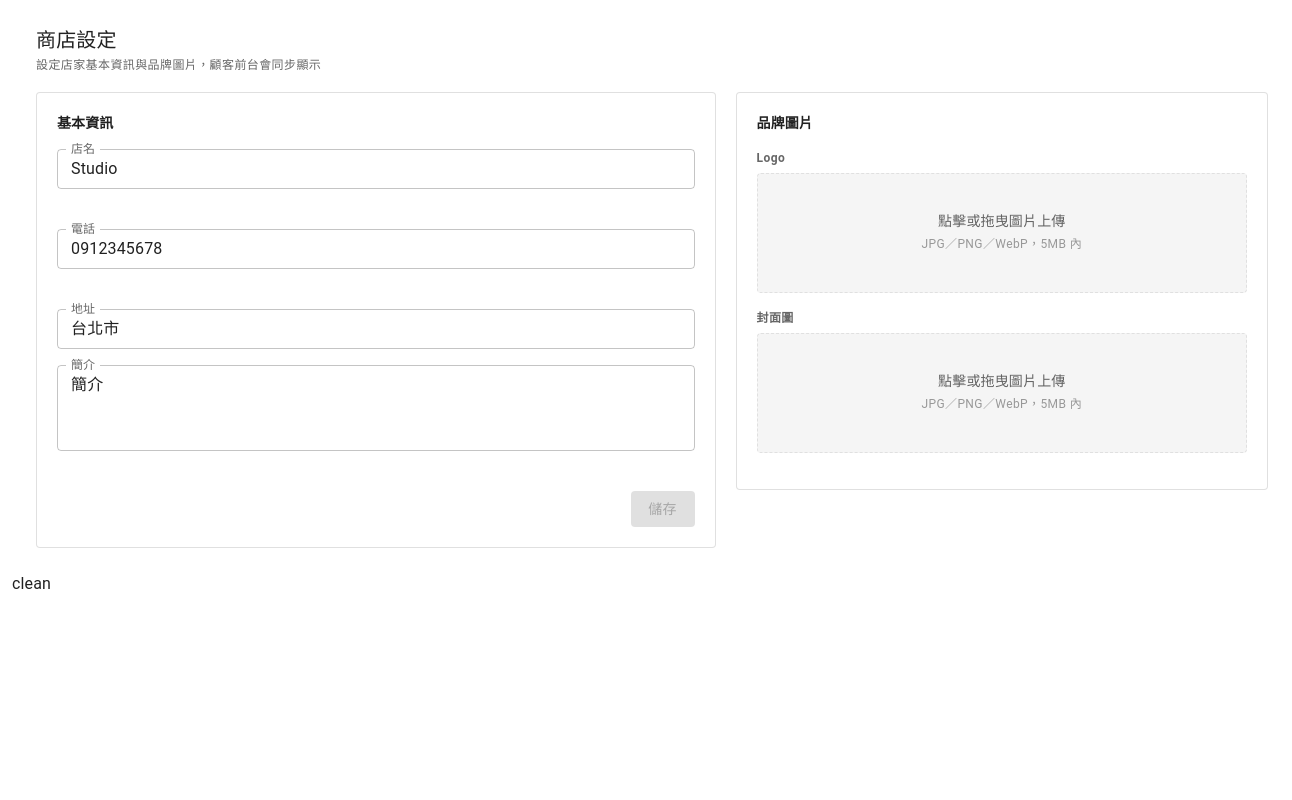
Test: StoreSettingsForm 未儲存變更回報（TASK-082，key: store-basic-info） › 改「電話」：有變更
Type "x" into the field labelled "電話" at (376, 249), box [57,229,695,269]
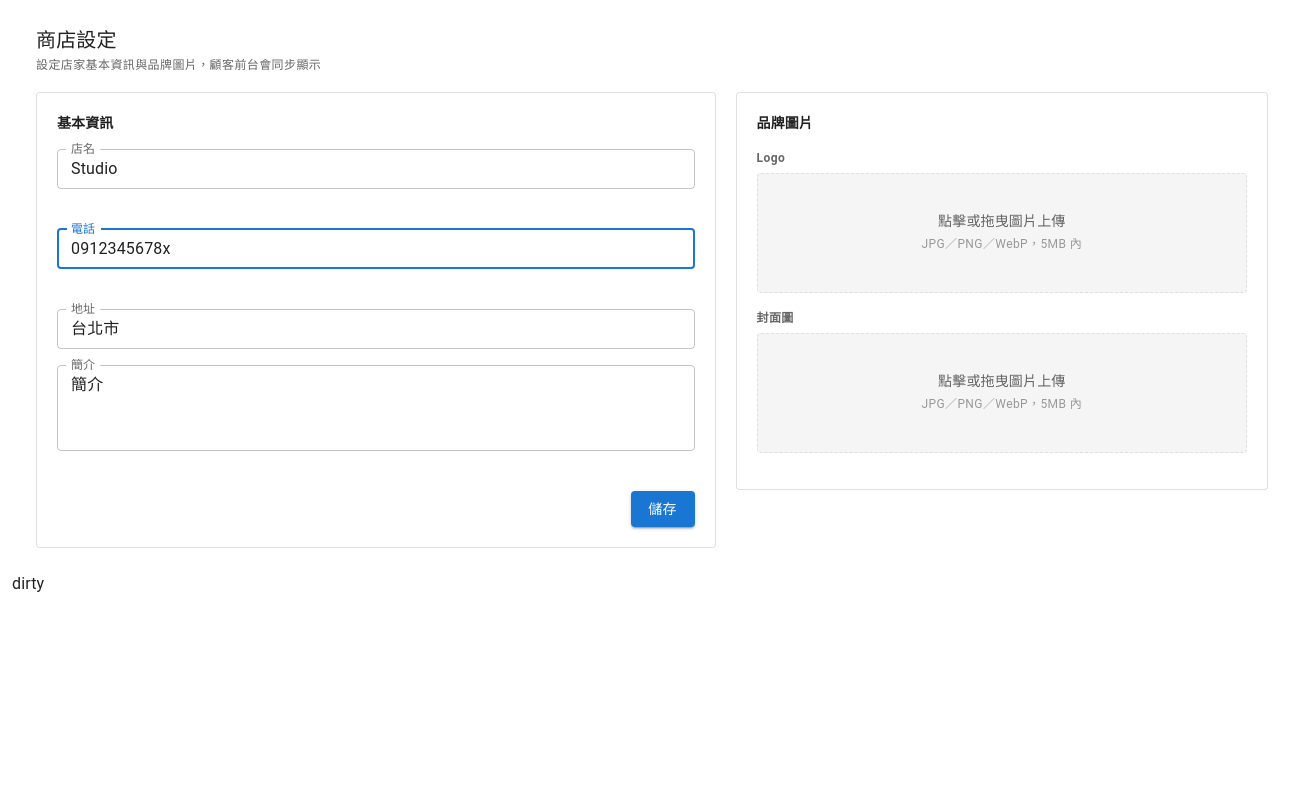
Expected: the text with test id "probe" reads "dirty", [12,574,44,593]
